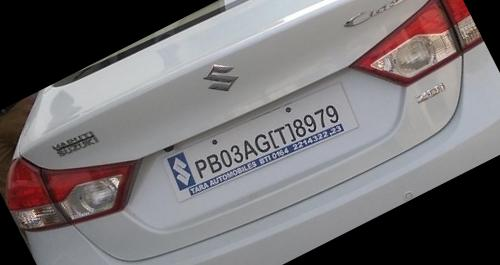plate: (148, 56, 372, 224)
